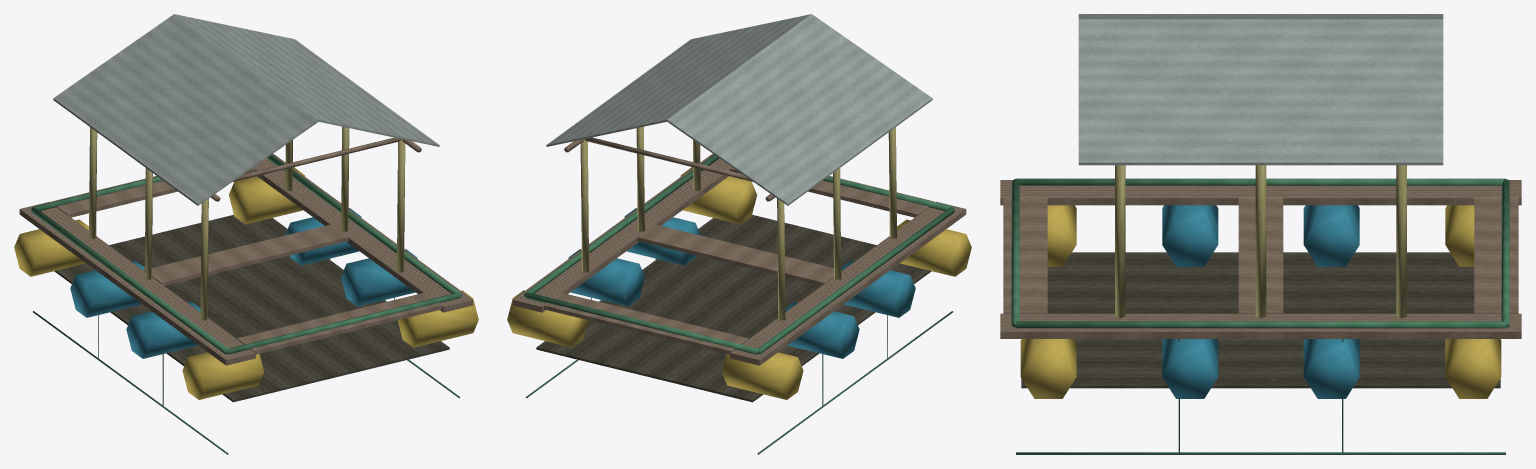
Rendered from bung-raft-0-grey-mid.glb.
The picture shows the model from 3 angles, left to right: view 1: azimuth 30°, elevation 25°; view 2: azimuth 150°, elevation 25°; view 3: azimuth 270°, elevation 25°; orthographic projection. The views are drawn at different scales.
Parts seen in each view (by area): view 1: bung-raft-0-grey-mid; view 2: bung-raft-0-grey-mid; view 3: bung-raft-0-grey-mid.
Boxes of the visible parts, box(x1,y1,x2,y2) form: bung-raft-0-grey-mid: box(14, 14, 478, 454); bung-raft-0-grey-mid: box(507, 14, 971, 454); bung-raft-0-grey-mid: box(1000, 14, 1521, 454).
Size of the model in its own units: 4.14 by 4.17 by 5.4.
1 material, 1 textured.
